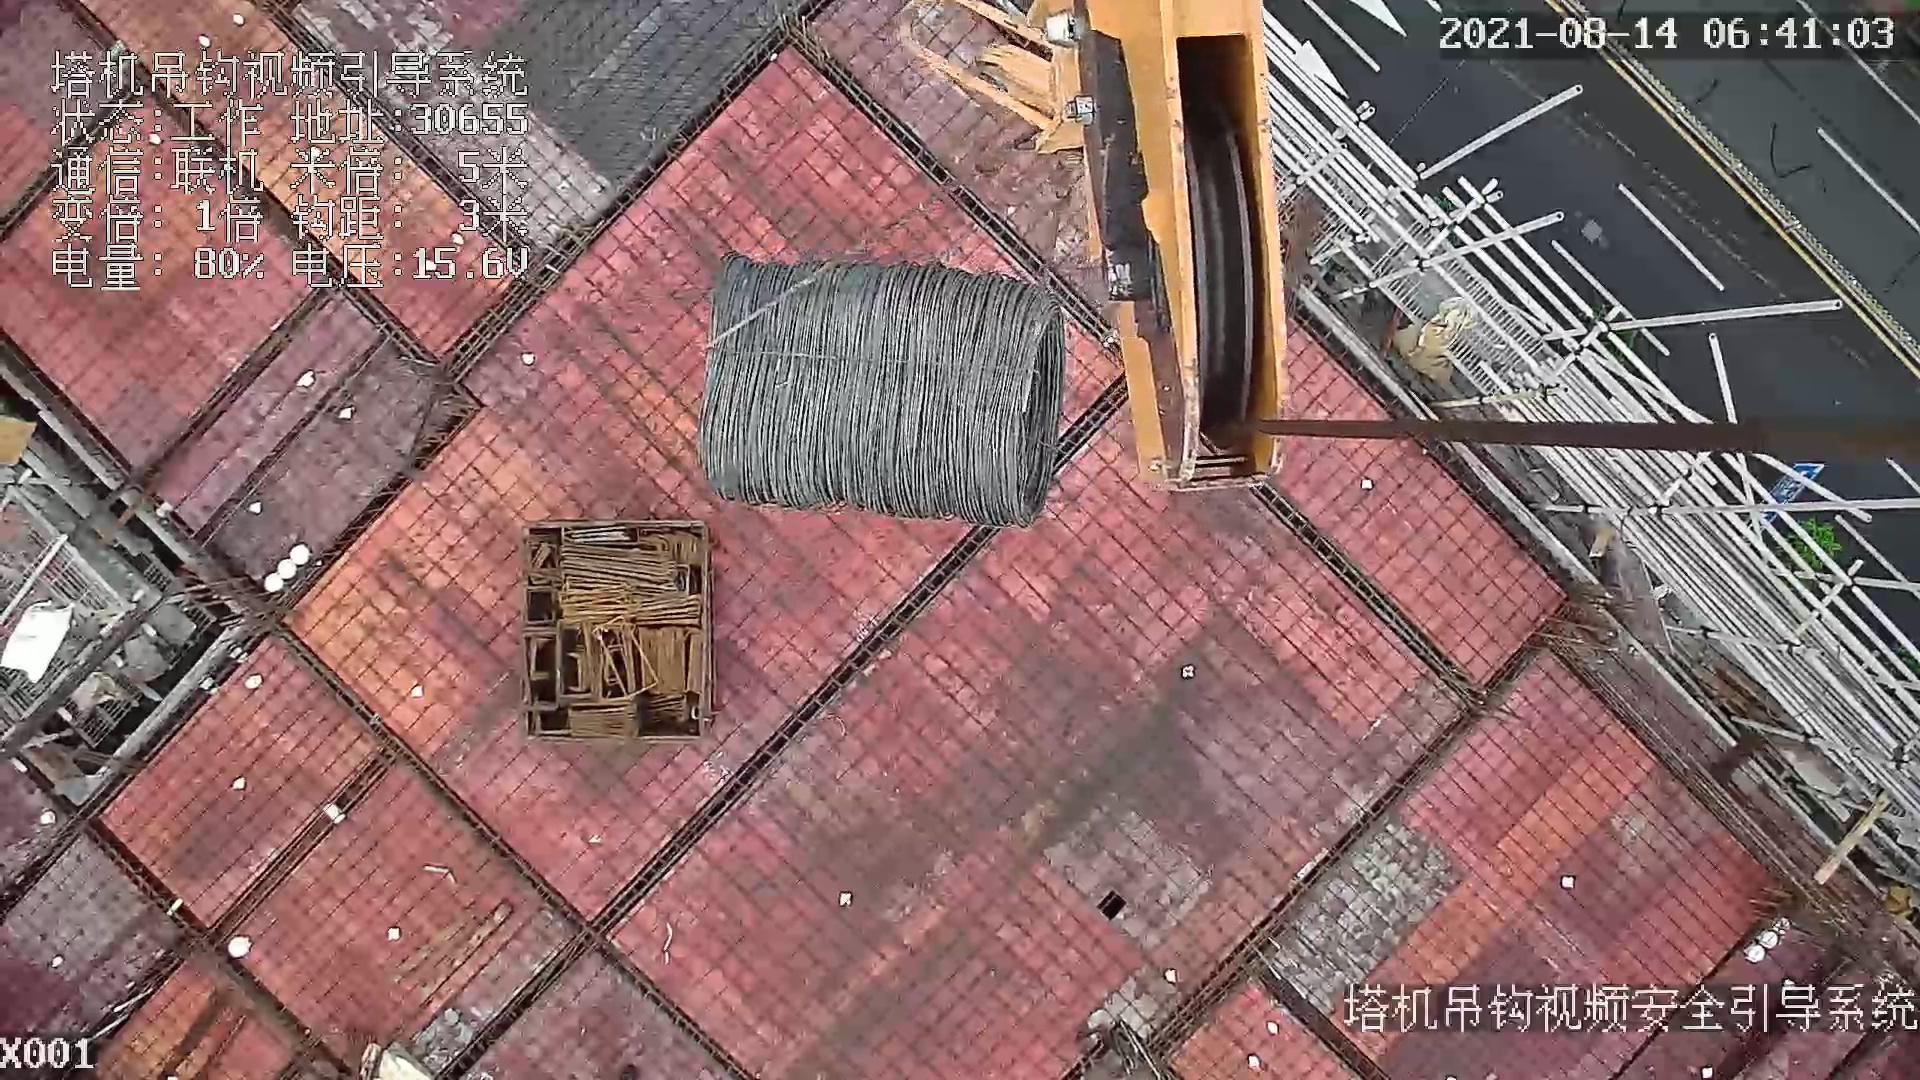hook: (903, 1, 1291, 502)
